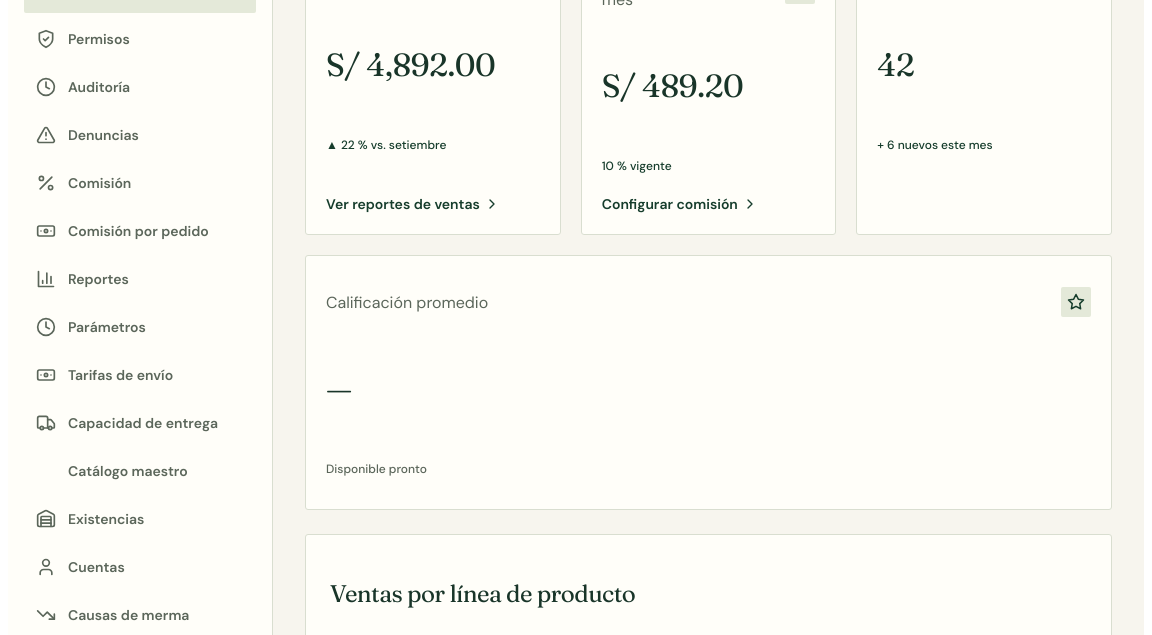
Test: CCPIP-354 Existencias agregadas de los puntos de acopio › se llega desde el menu y muestra los totales, cada punto y cada linea por unidad
The image size is (1152, 635).
(page scrolled)
Click the link "Existencias" at (90, 519), box left=36, top=509, right=144, bottom=529
(page scrolled)
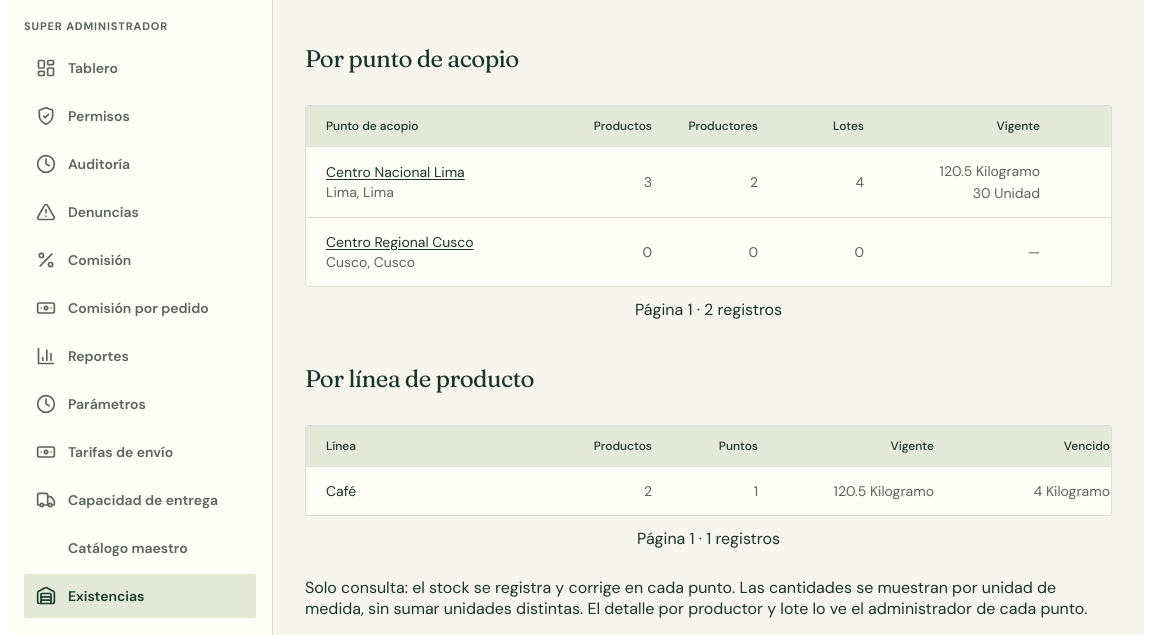
Now the list item "120.5 Kilogramo" in the row of "Centro Nacional Lima" is shown, box left=940, top=162, right=1040, bottom=180
Now the list item "30 Unidad" is shown, box left=973, top=184, right=1040, bottom=202
Now the link "Centro Regional Cusco" is shown, box left=326, top=233, right=474, bottom=251
